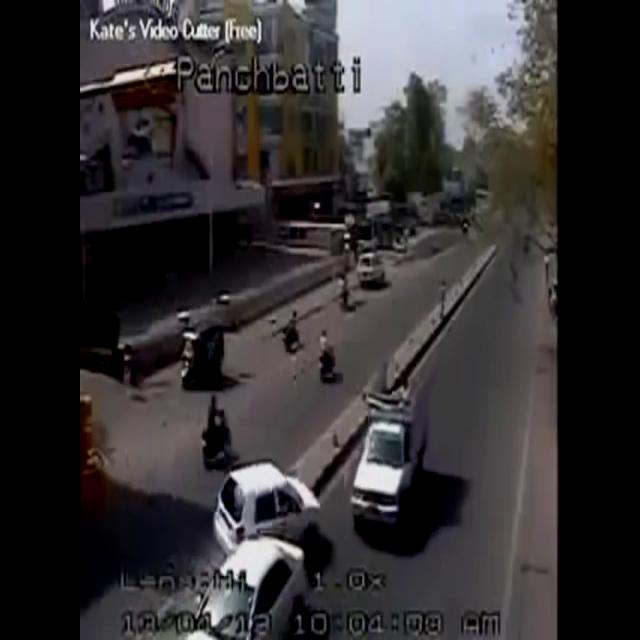accident: (184, 460, 322, 640)
